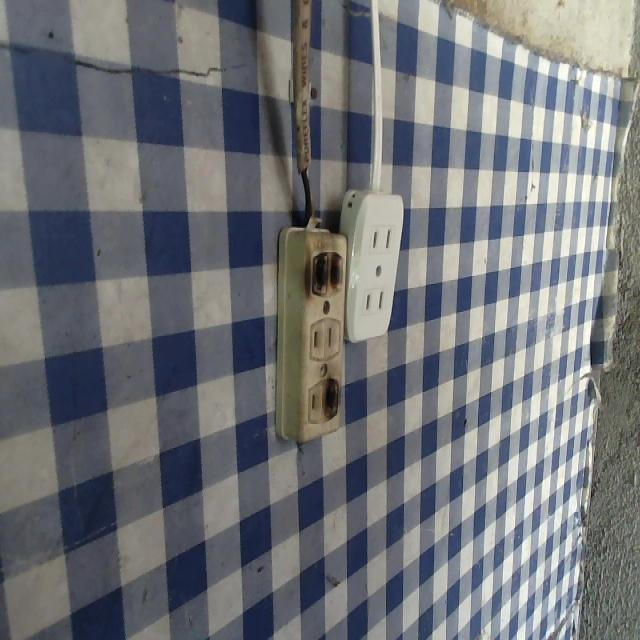-: (304, 244, 347, 300), (321, 376, 342, 423)
